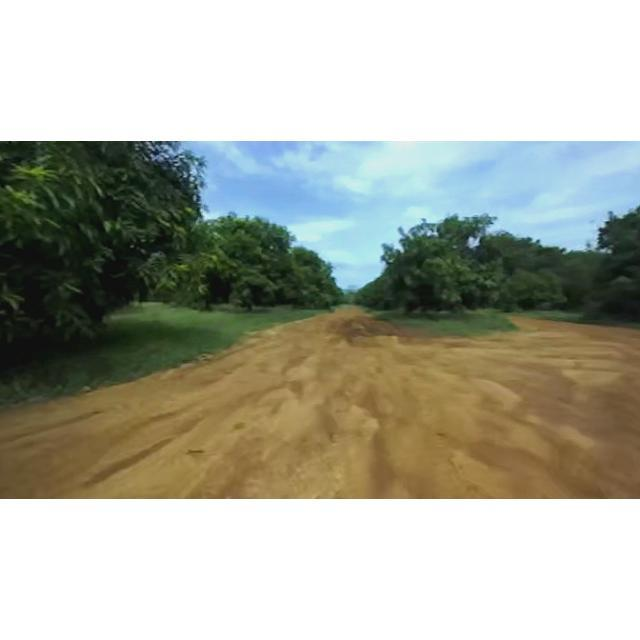direk: (0, 142, 222, 360), (377, 208, 533, 324), (163, 204, 309, 322), (586, 203, 640, 324), (272, 236, 344, 312)
